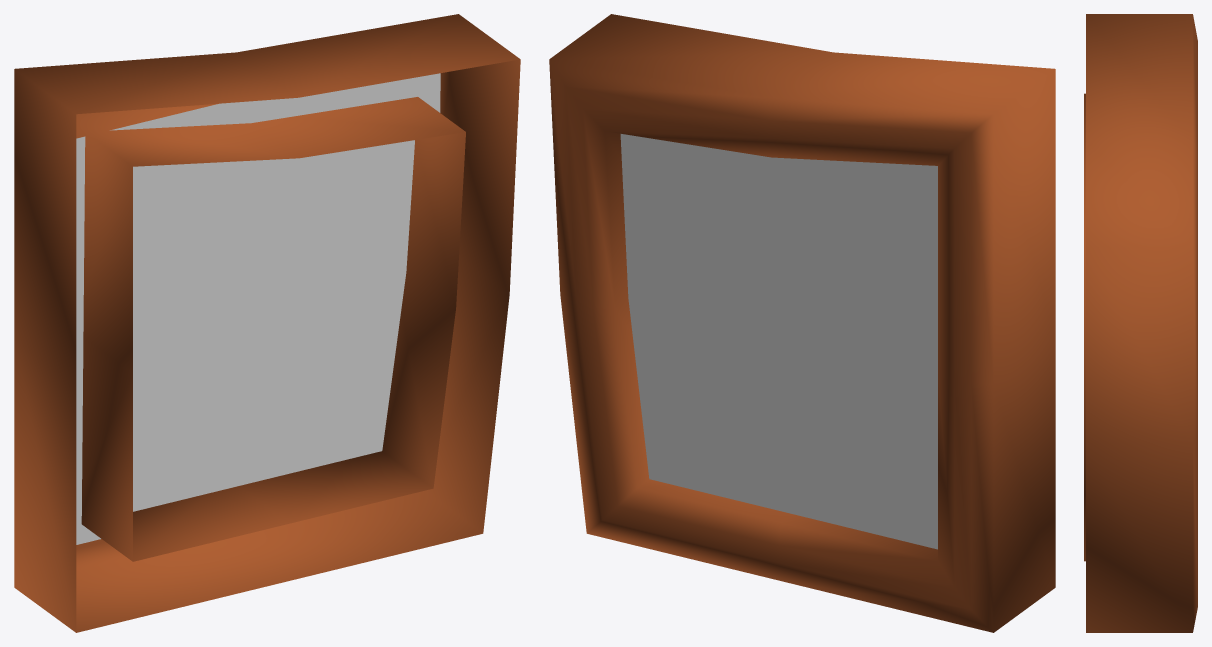
File: props_wall_painting_frame_8.fbx
3 renders of one model, left to right at view 1: azimuth 30°, elevation 25°; view 2: azimuth 150°, elevation 25°; view 3: azimuth 270°, elevation 25°, orthographic. The views are drawn at different scales.
Visible parts, largest first — view 1: Cube.110, Plane; view 2: Cube.110, Plane; view 3: Cube.110.
Part boxes in pixels (box(x1,y1,x2,y2)): Cube.110: box(14, 14, 520, 632); Plane: box(76, 73, 440, 544); Cube.110: box(549, 14, 1055, 632); Plane: box(620, 134, 937, 549); Cube.110: box(1084, 14, 1197, 632).
Size of the model in its own units: 0.7228 by 0.1857 by 0.8061.
